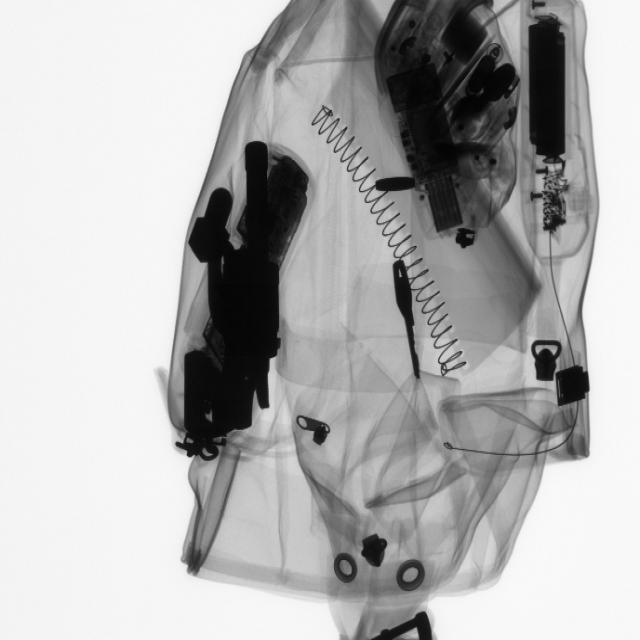GUN: (187, 129, 290, 485)
